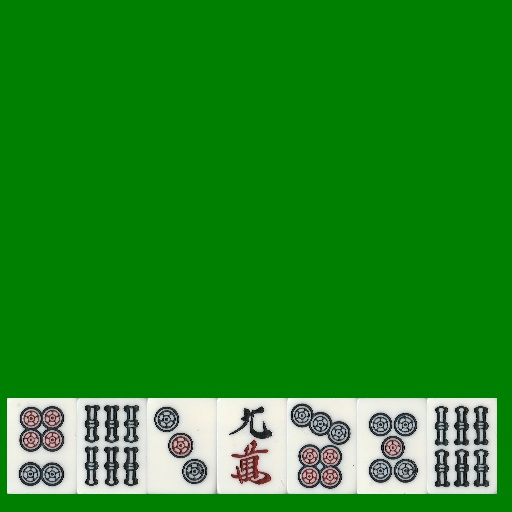3p: (147, 398, 217, 494)
5p: (357, 398, 427, 494)
6p: (7, 398, 77, 494)
6s: (77, 398, 147, 494), (427, 398, 497, 494)
7p: (287, 398, 357, 494)
9m: (217, 398, 287, 494)
